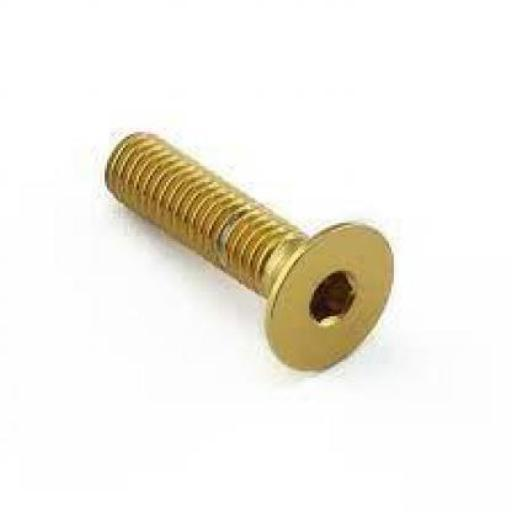Bolt: (104, 130, 395, 373)
